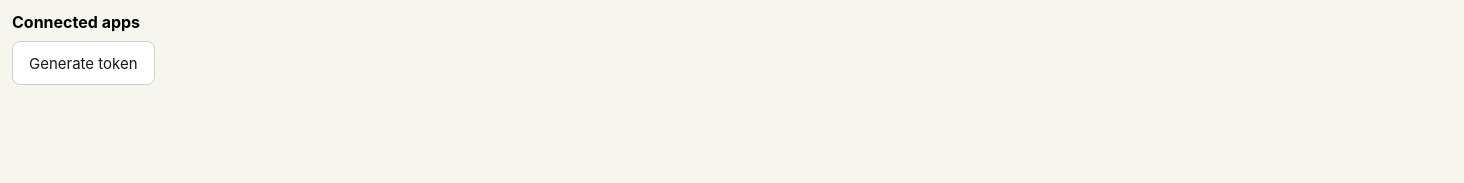
<ConnectedApps> › generates and reveals a token exactly once
Click the button "Generate token": coordinates (83, 63) [12, 41, 155, 85]
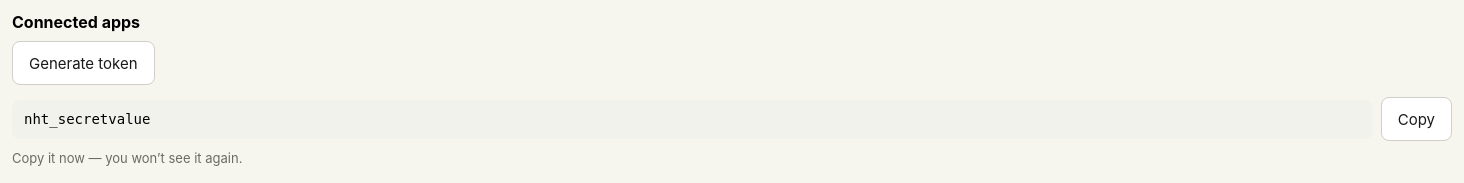
Expected: the text "nht_secretvalue" is shown, [12, 100, 1373, 139]
Expected: the text "Copy it now — you won’t see it again." is shown, [12, 150, 242, 166]
